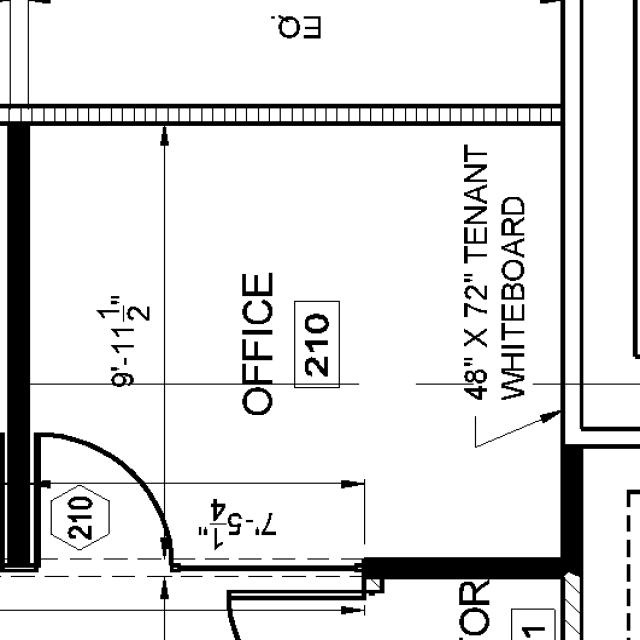Doors: (32, 429, 182, 579)
